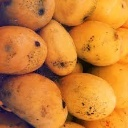mango: (1, 24, 47, 74)
